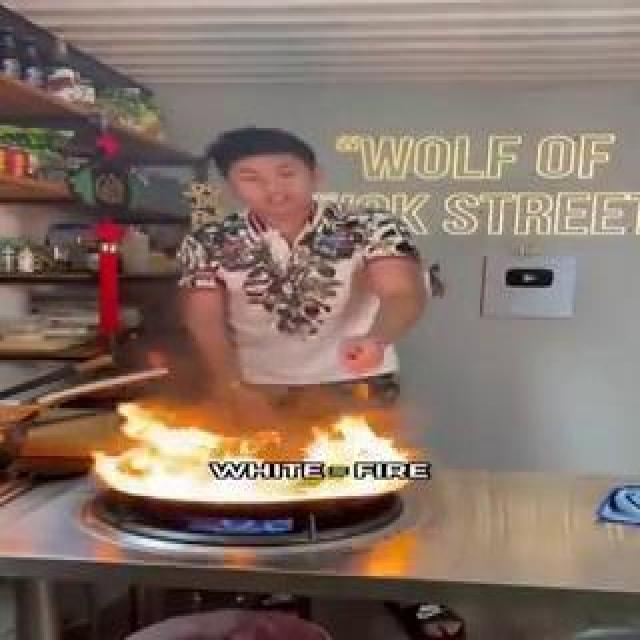Fire: (238, 176, 284, 414)
